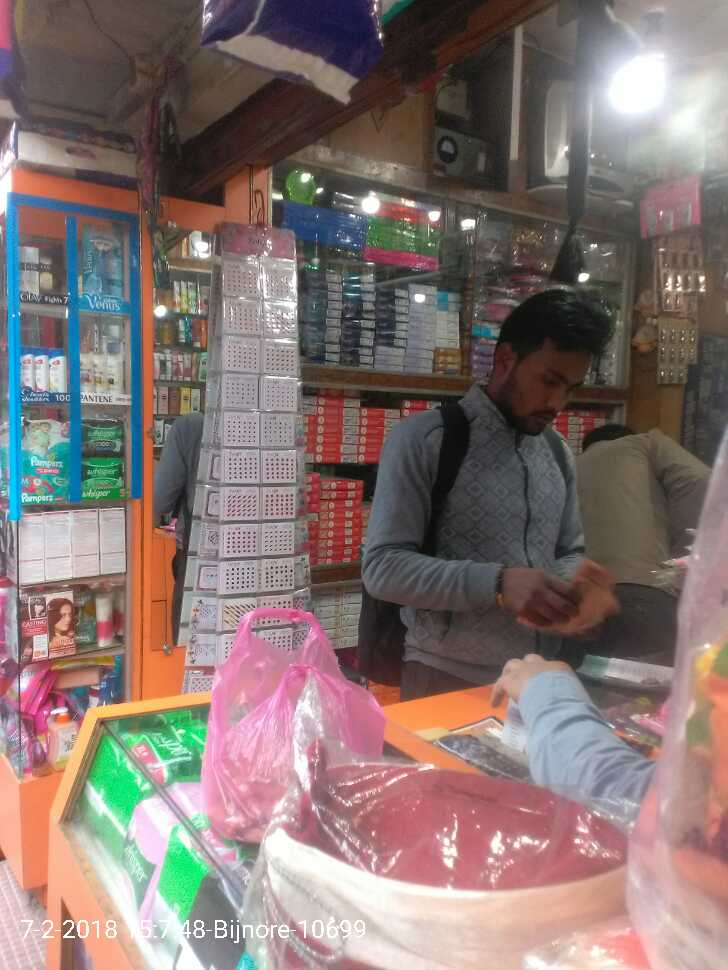venus: (83, 226, 121, 293)
